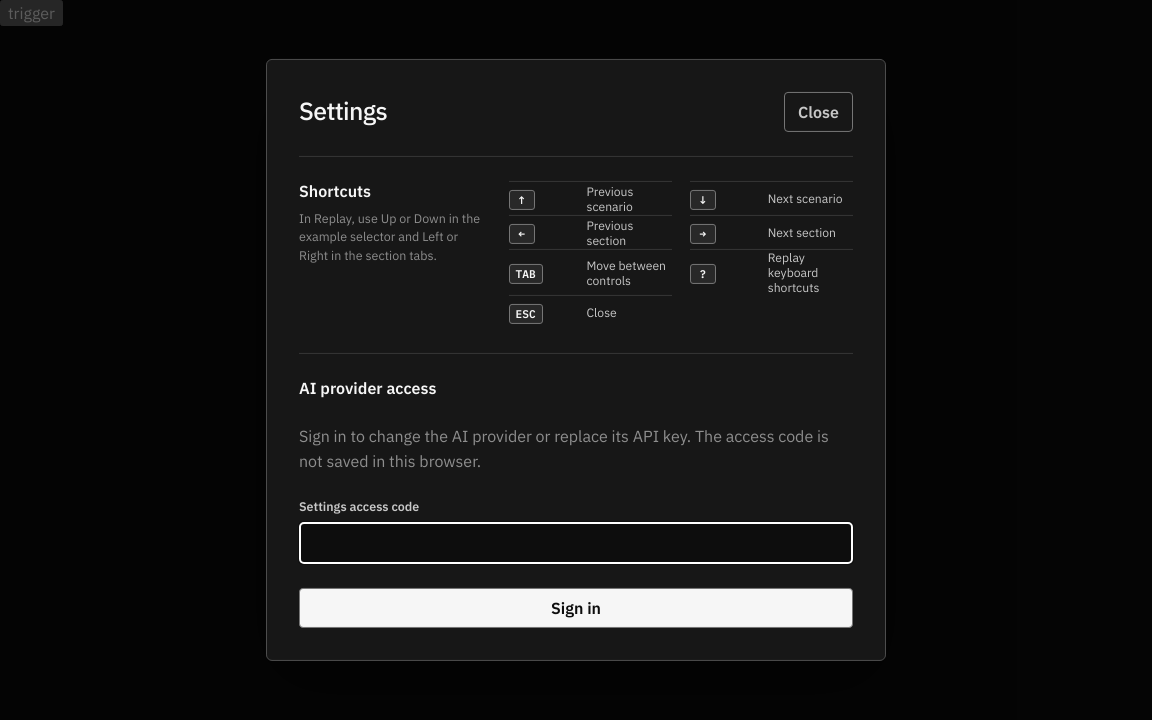
Test: owner settings › accepts the access code only in the signed-out view and clears it after sign-in
The image size is (1152, 720).
In the password field labelled "Settings access code": (576, 543) [299,522,853,564], type "private-owner-code"
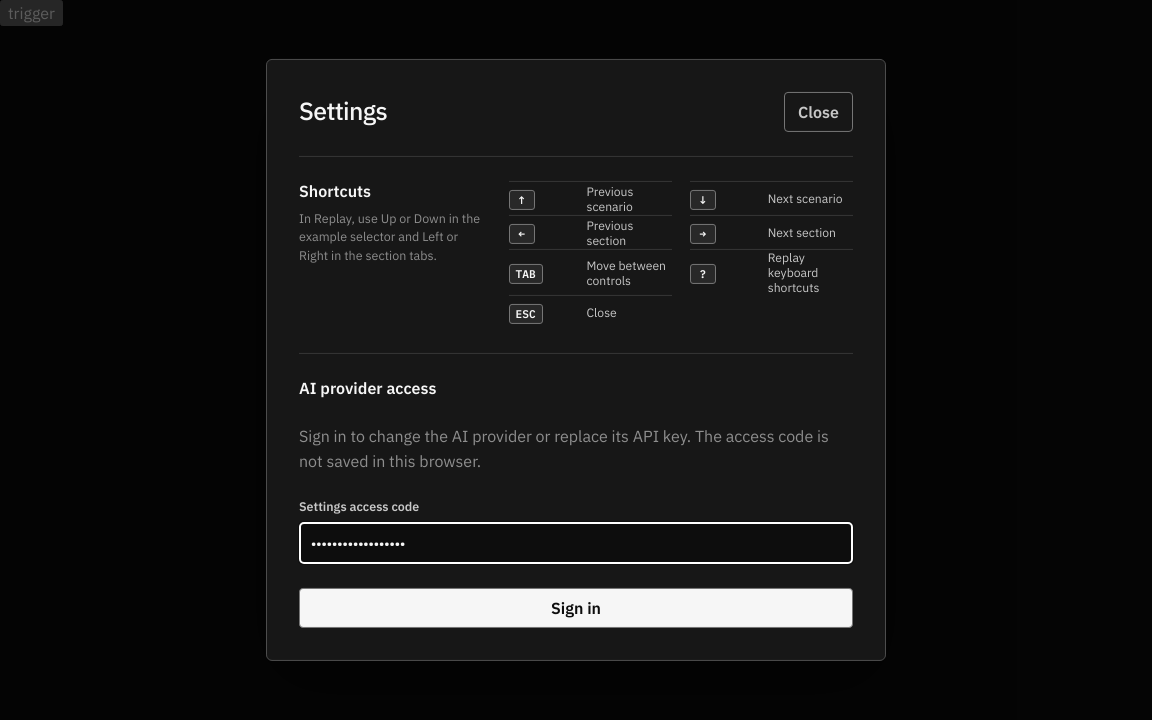
Click the button "Sign in": click(576, 608) [299,588,853,628]
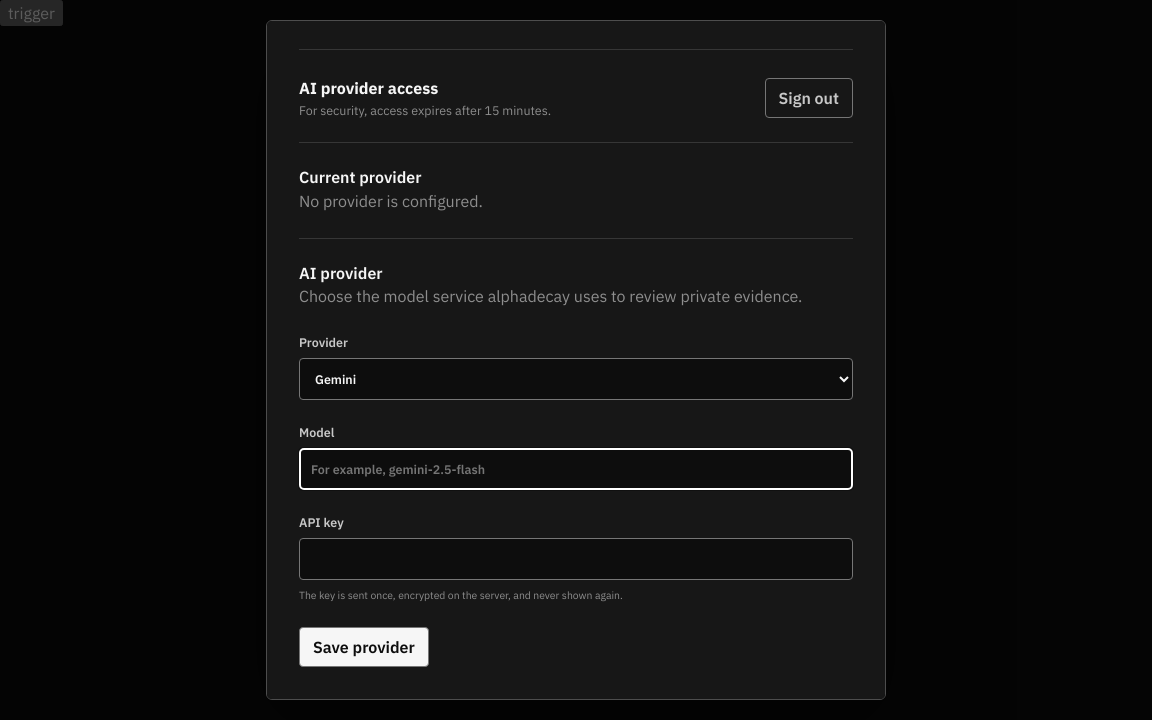
Check: the heading "Current provider" is shown, box [299,167,422,187]
Check: the text labelled "Settings access code" is gone
